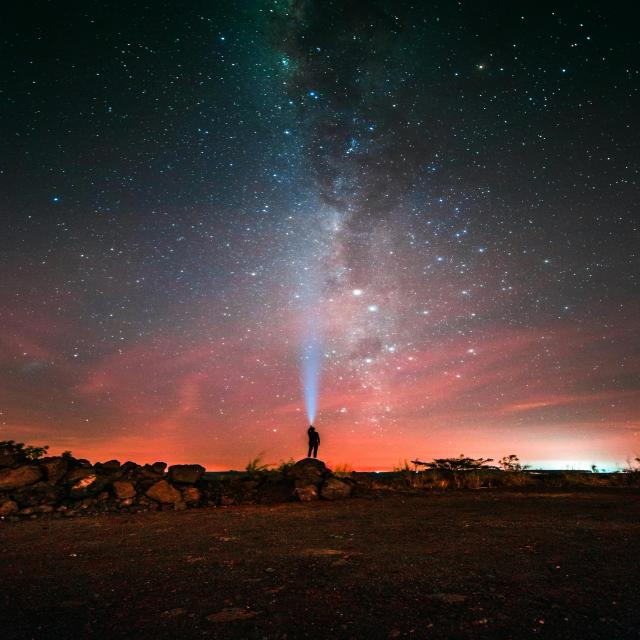stand: (298, 414, 330, 468)
